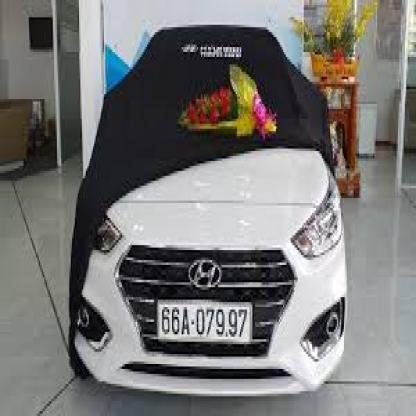biensoxe: (156, 300, 255, 348)
